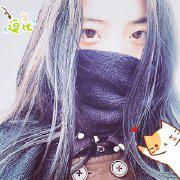OK: (73, 16, 157, 108)
